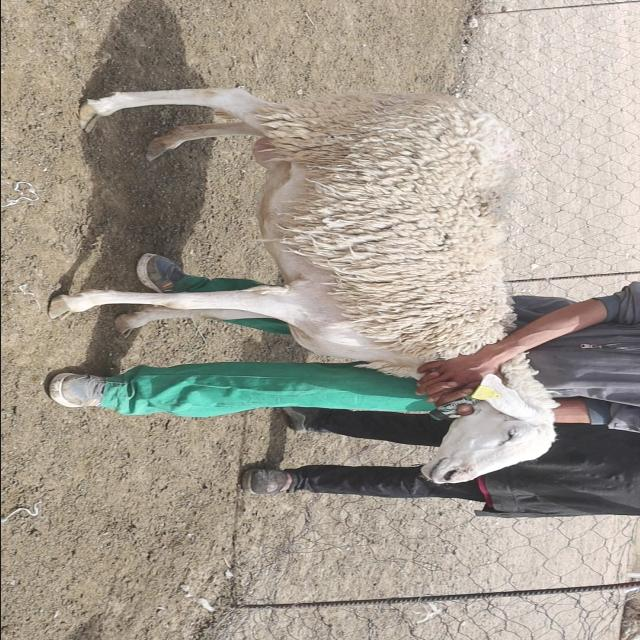Score_4: (48, 88, 514, 377)
